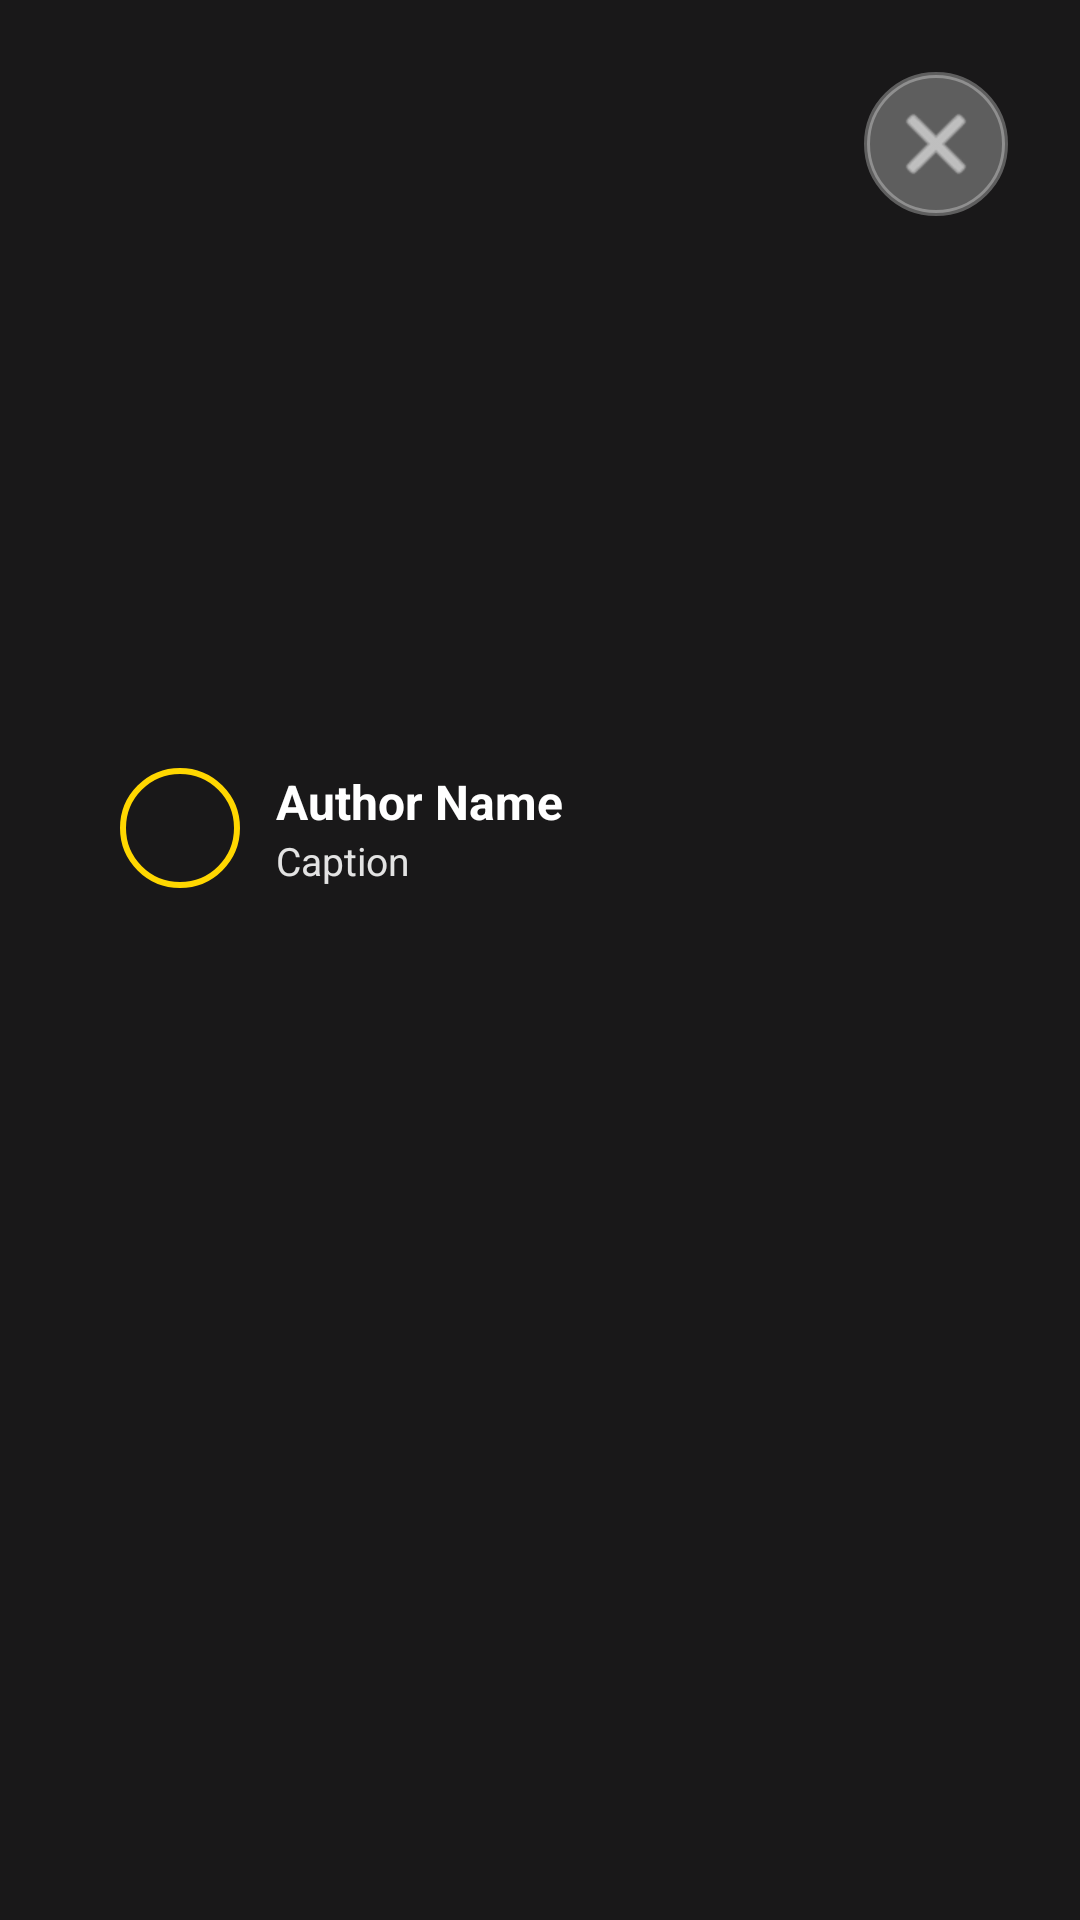

Locate icon controls on the screen. Image size 1080w x 1920h, boxes as {"left": x1, "top": y1, "right": x2, "bottom": y2}.
close clear cancel: {"left": 864, "top": 72, "right": 1008, "bottom": 216}
